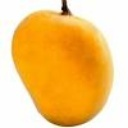mango: (9, 6, 115, 128)
